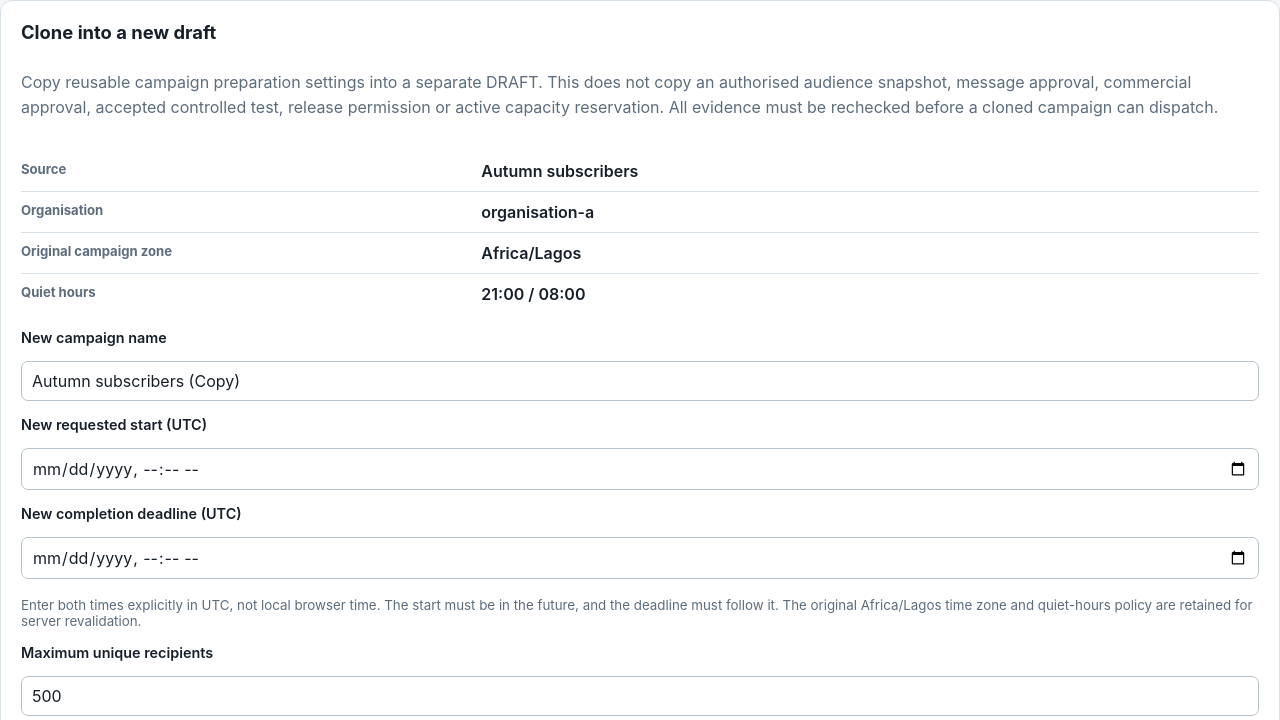
a clone returning inherited approvals or source identity is not claimed as a safe DRAFT
Replace the text in the field labelled "New campaign name" with "November subscribers". click: (640, 381)
box: left=21, top=361, right=1259, bottom=401
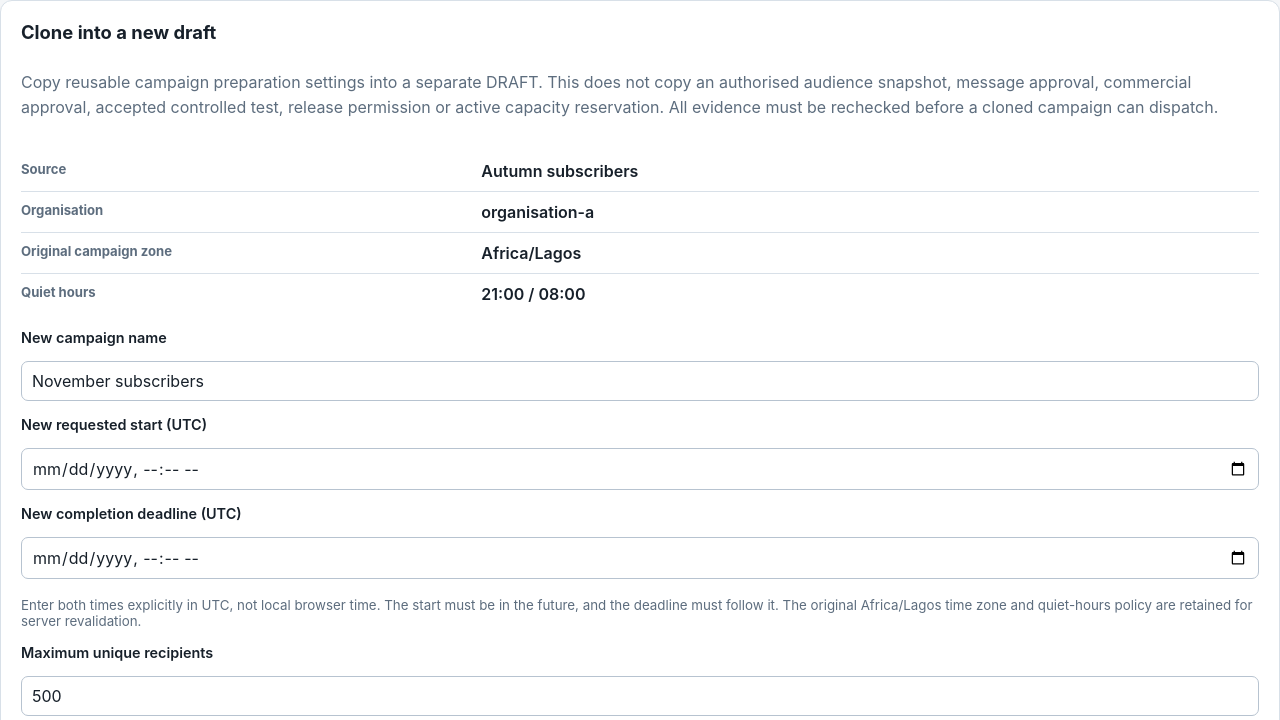
Type "2099-11-10T10:00" into the field labelled "New requested start (UTC)". click: (640, 469)
box: left=21, top=448, right=1259, bottom=490
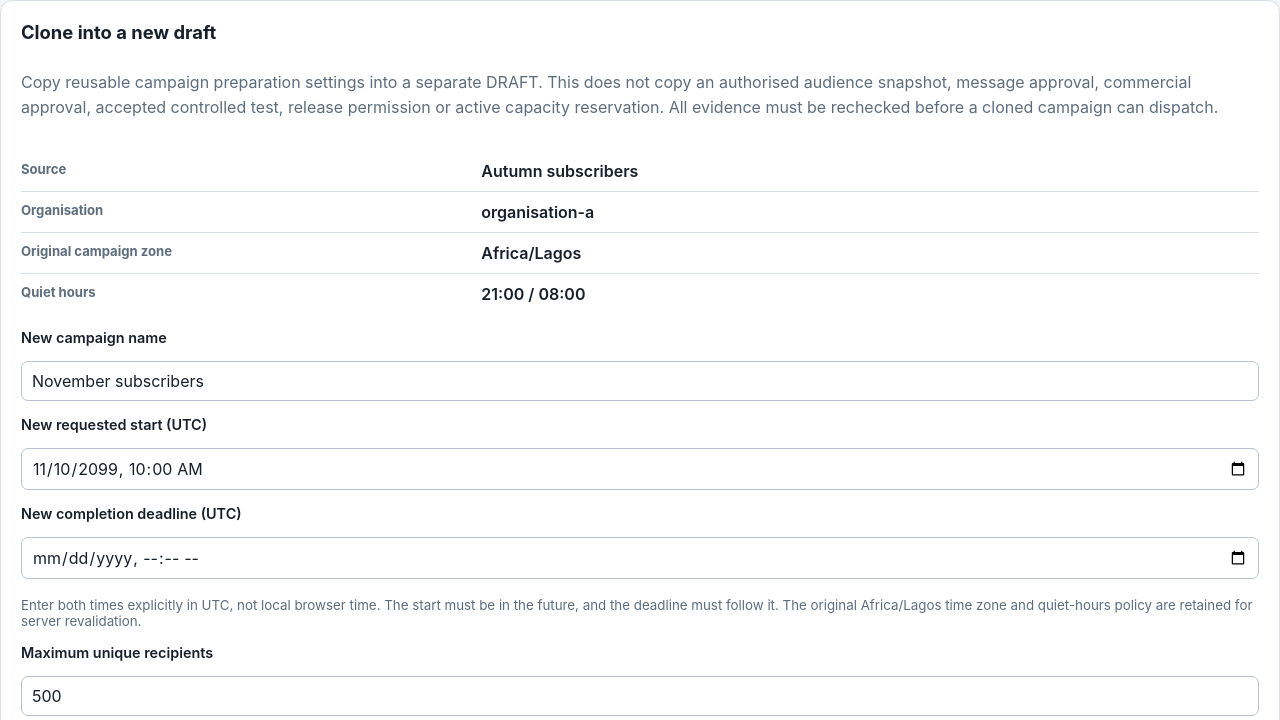
Type "2099-11-11T18:00" into the field labelled "New completion deadline (UTC)". click: (640, 558)
box: left=21, top=537, right=1259, bottom=579
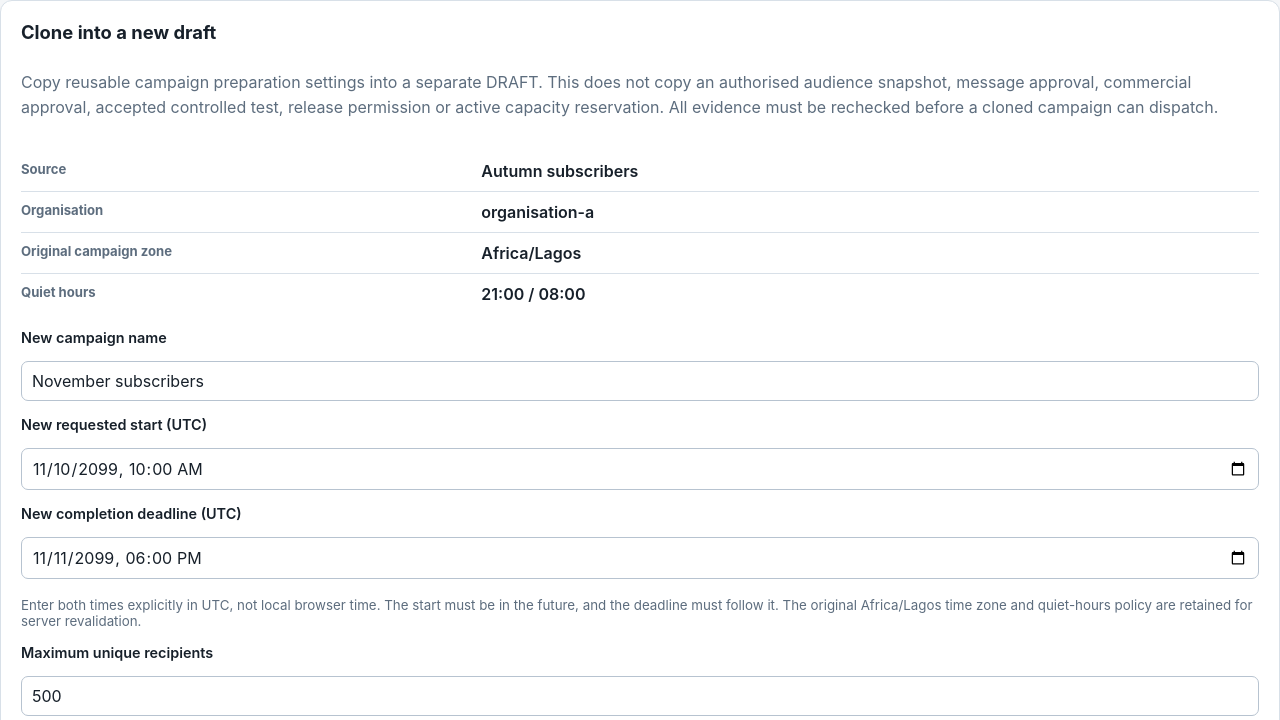
Replace the text in the number field labelled "Maximum unique recipients" with "900". click: (640, 696)
box: left=21, top=676, right=1259, bottom=716
(page scrolled)
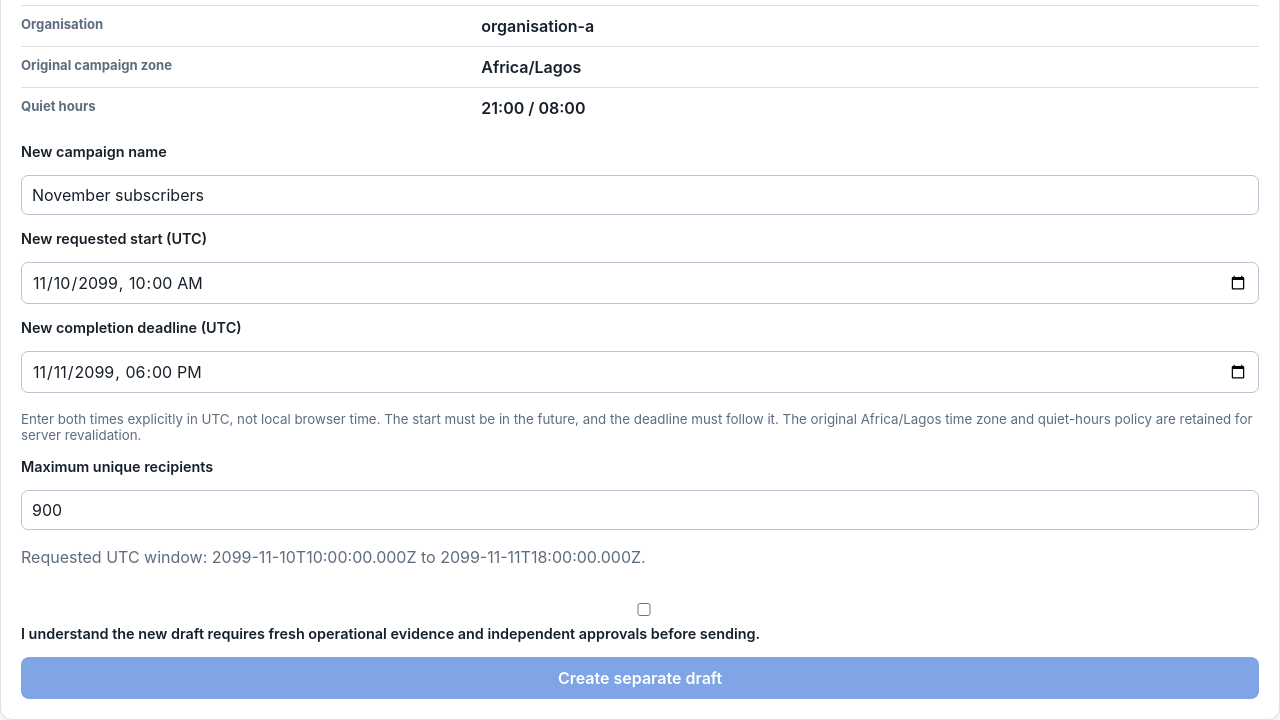
Click the checkbox labelled "I understand the new draft requires fresh operational evidence". click: (644, 610)
box: left=25, top=603, right=1263, bottom=616
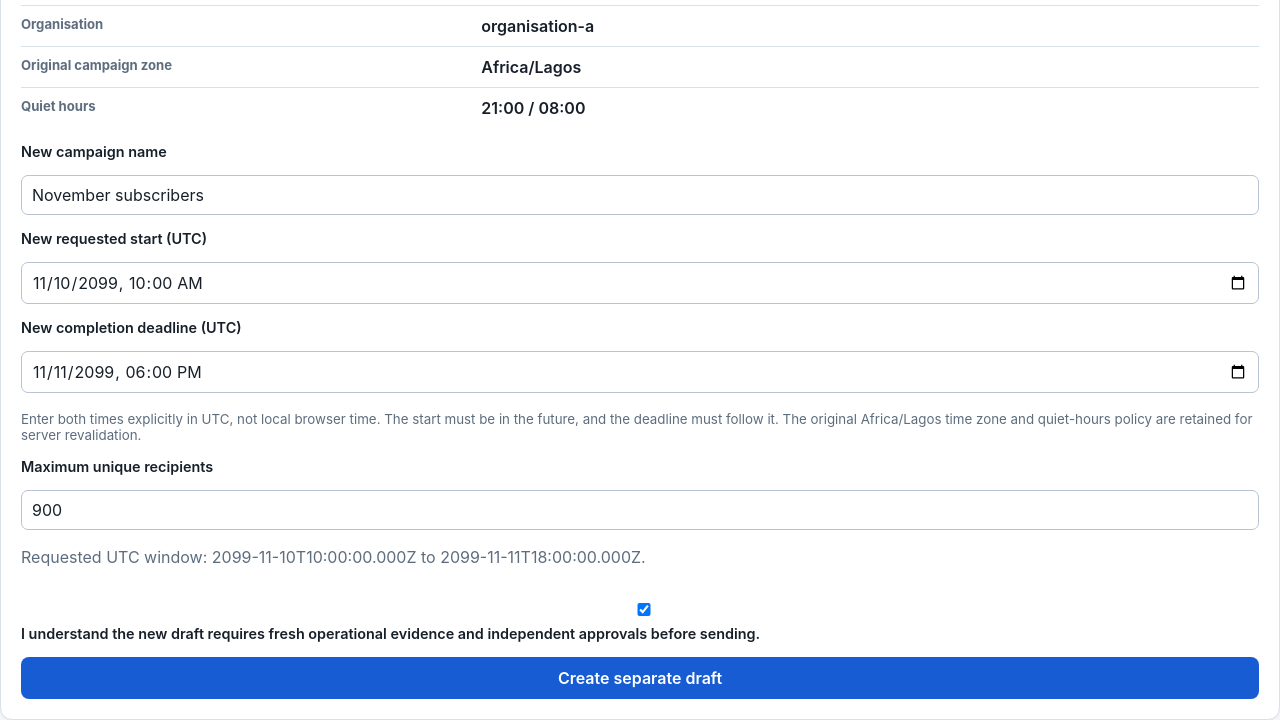
Click the button "Create separate draft". click: (640, 678)
box: left=21, top=657, right=1259, bottom=699
(page scrolled)
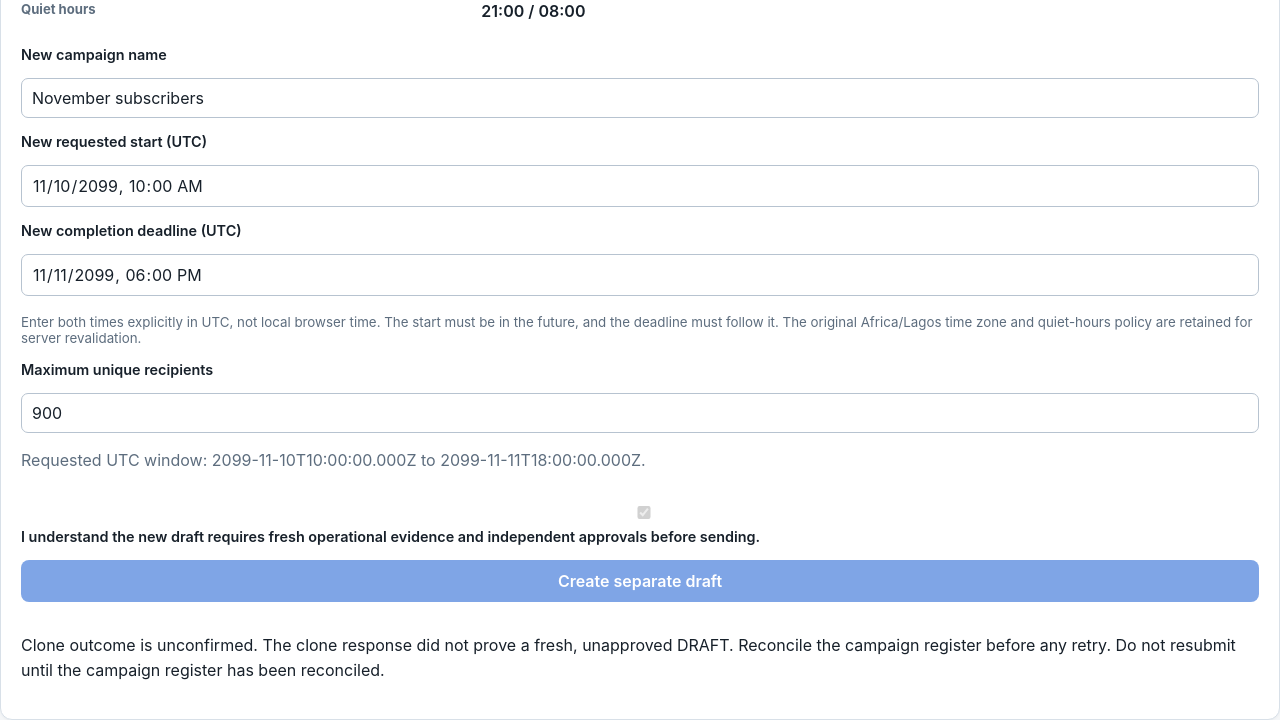
Result: the text "did not prove a fresh, unapproved DRAFT" is shown at left=21, top=635, right=1236, bottom=680
